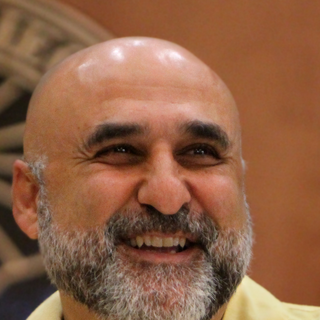eye: (92, 140, 145, 164), (178, 140, 226, 165)
